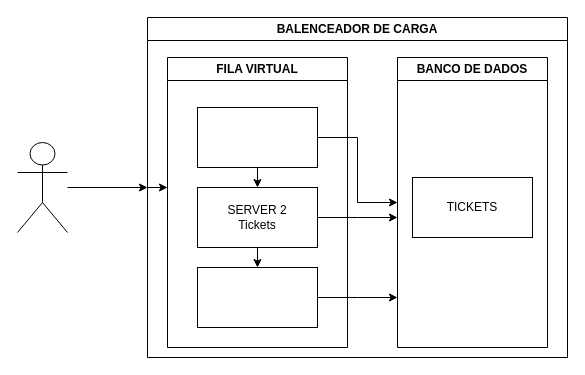
Image size: 585x375. Some labels were removed from this diagram. The centre of each missing label's shape, as x and y in pixels:
"CLIENTE" goes at (x=42, y=187).
"SERVER 1 Auth" goes at (x=257, y=137).
"SERVER 3 Payment" goes at (x=257, y=297).
